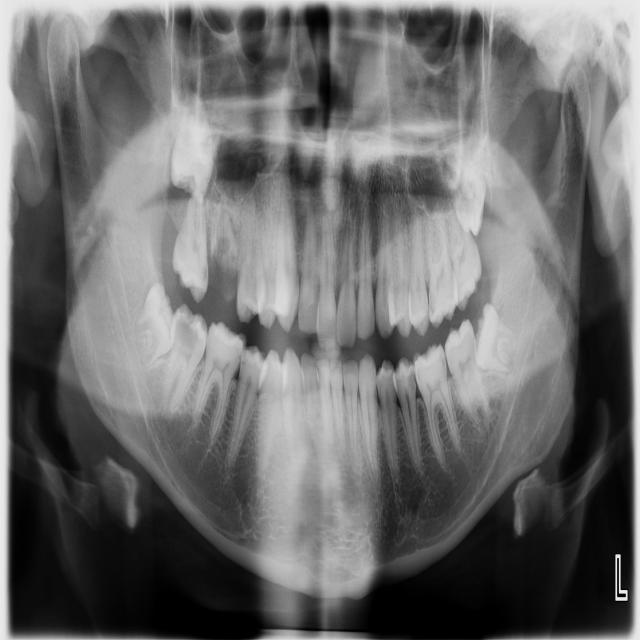mandibula: (45, 15, 594, 599)
